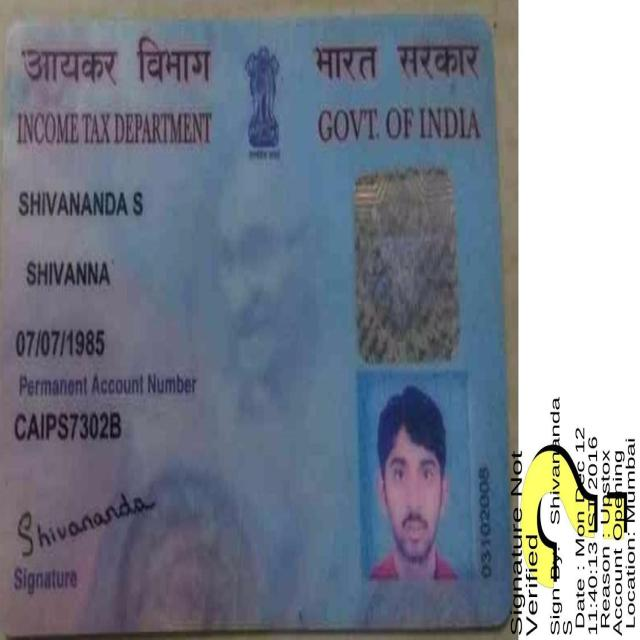pan_card: (1, 20, 511, 627)
